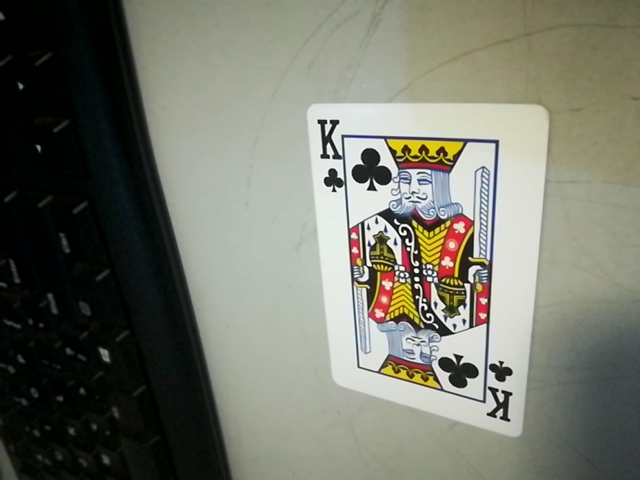mh k: (308, 112, 349, 195), (480, 358, 524, 427)
